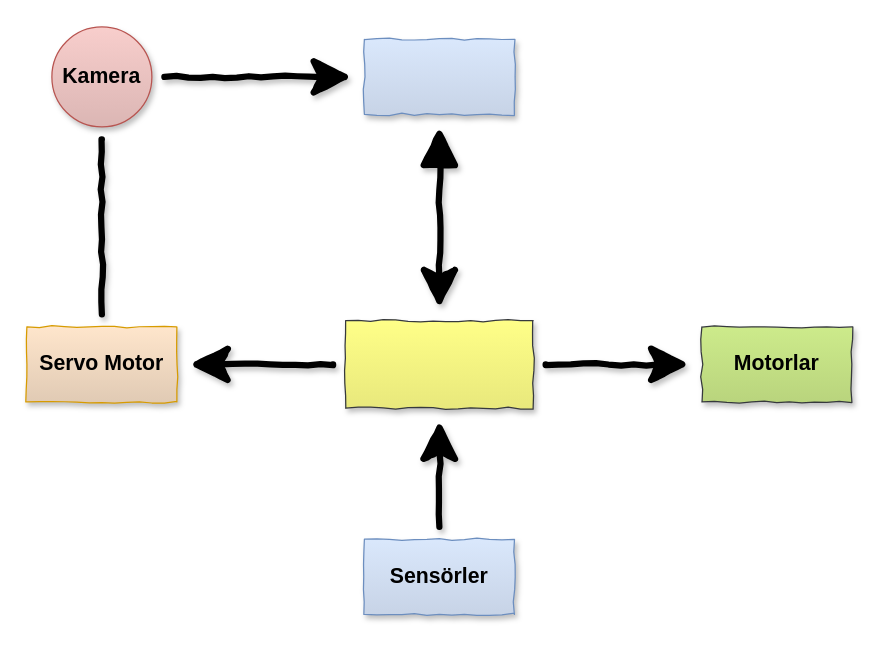
The diagram is 881 pixels wide and 645 high, and some of its shapes have lost their labels. The centre of each missing label's shape, as x and y in pixels:
"Jetson NANO" belongs at pixel 440 78.
"Mikrodenetleyici" belongs at pixel 440 365.
